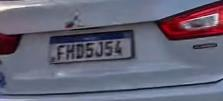Placa_mercosul_carro: (48, 29, 136, 66)
